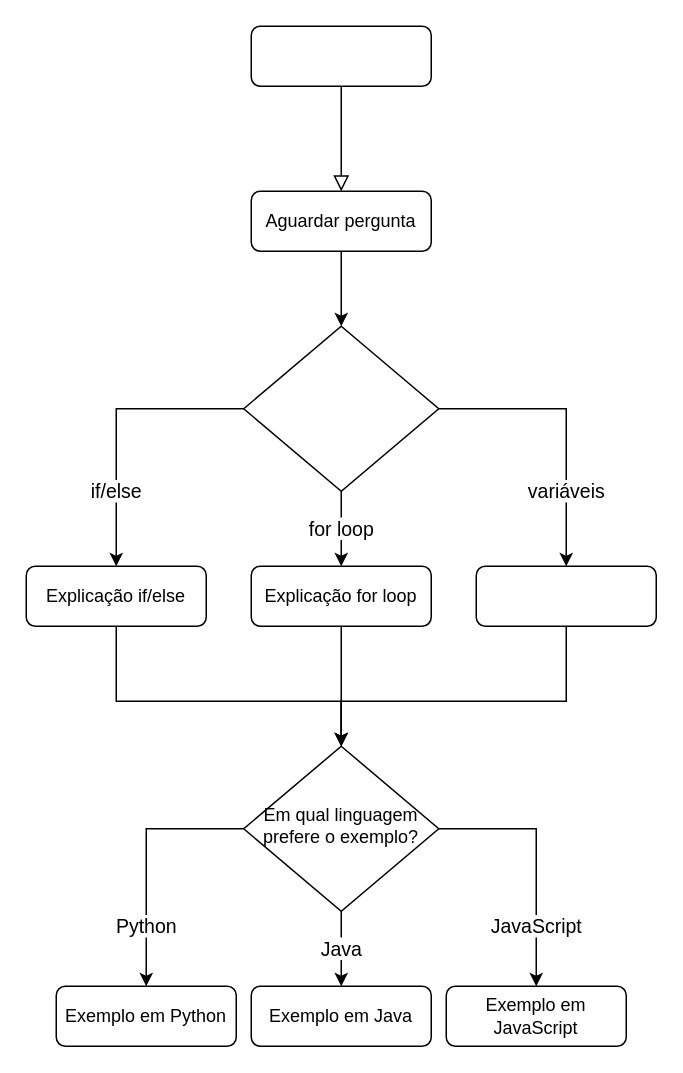
Image size: 683x1073. Some labels were removed from this diagram. The centre of each missing label's shape, as x and y in pixels:
Explicação váriaveis: the point at 565,595
Inicio de sessão: the point at 340,55
Tipo de pergunta: the point at 340,408
